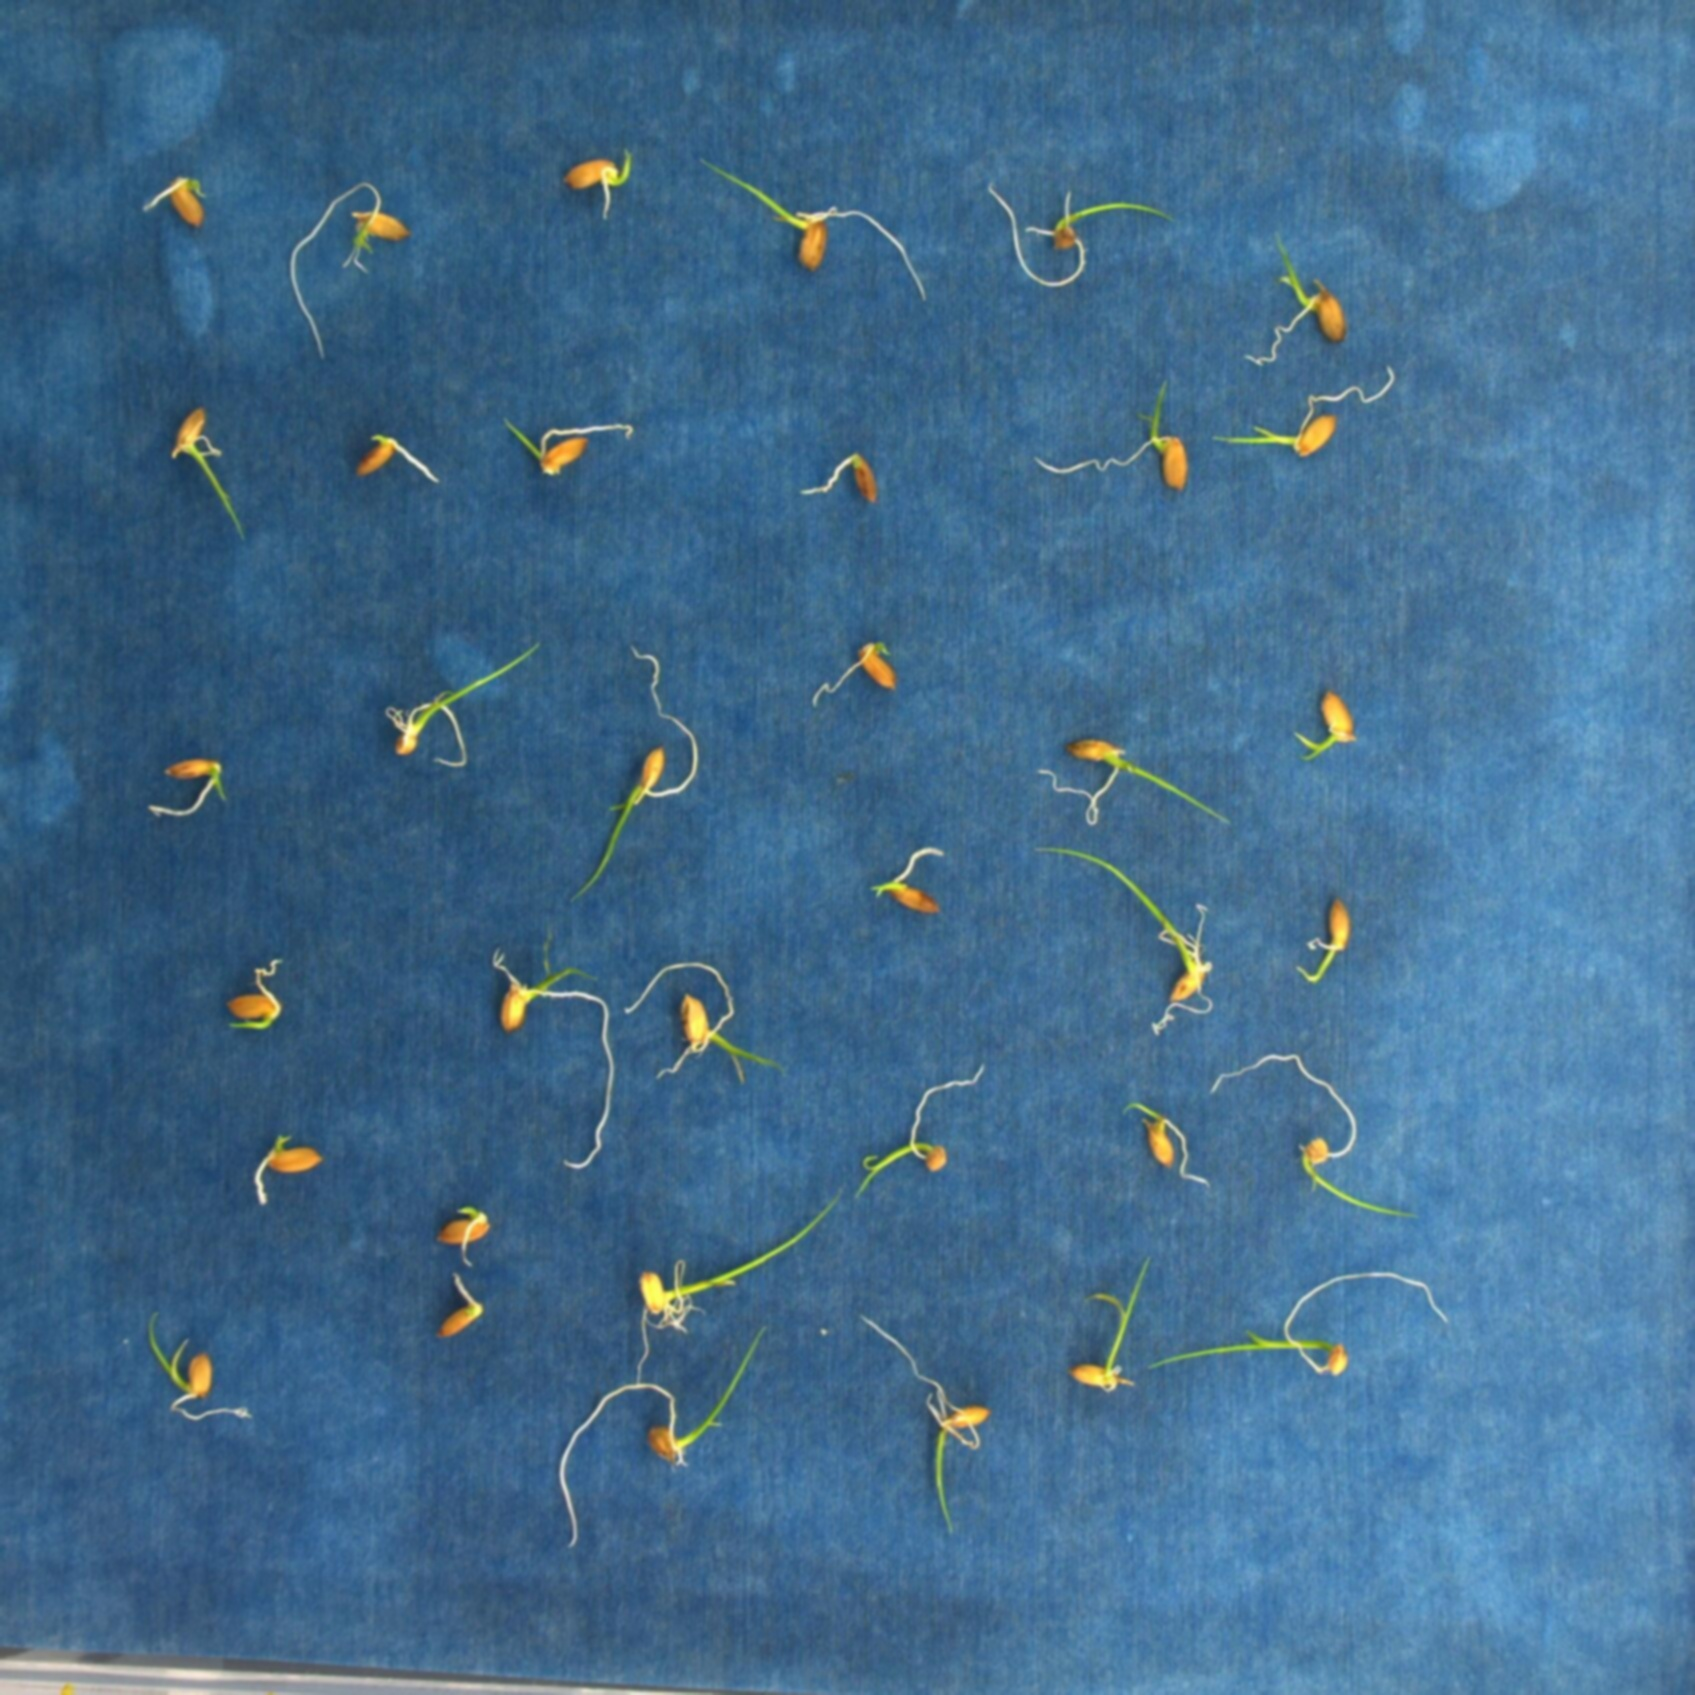not sprout: (247, 1135, 328, 1198), (812, 641, 893, 702), (354, 430, 439, 484), (804, 452, 880, 504), (435, 1205, 492, 1263), (427, 1274, 480, 1335)
sprout: (557, 1327, 765, 1552), (636, 1181, 846, 1381), (1211, 1046, 1425, 1222), (698, 154, 930, 304), (1142, 1267, 1451, 1378), (570, 641, 698, 900), (1037, 844, 1215, 1031), (852, 1309, 992, 1534), (486, 947, 612, 1167), (289, 179, 411, 362), (986, 177, 1178, 284), (626, 959, 784, 1088), (385, 638, 543, 765), (1211, 363, 1400, 459), (1038, 737, 1237, 827), (858, 1060, 987, 1198), (1034, 379, 1186, 494), (1246, 231, 1344, 366), (144, 1315, 251, 1423), (1073, 1253, 1150, 1399), (171, 405, 245, 545), (1125, 1104, 1212, 1194), (501, 414, 633, 473), (563, 144, 633, 217), (872, 846, 947, 914), (1290, 688, 1358, 761), (144, 754, 227, 815), (1298, 893, 1352, 983), (220, 955, 279, 1028), (140, 172, 206, 230)
